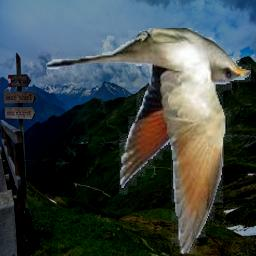Cuckoo: (46, 28, 251, 254)
